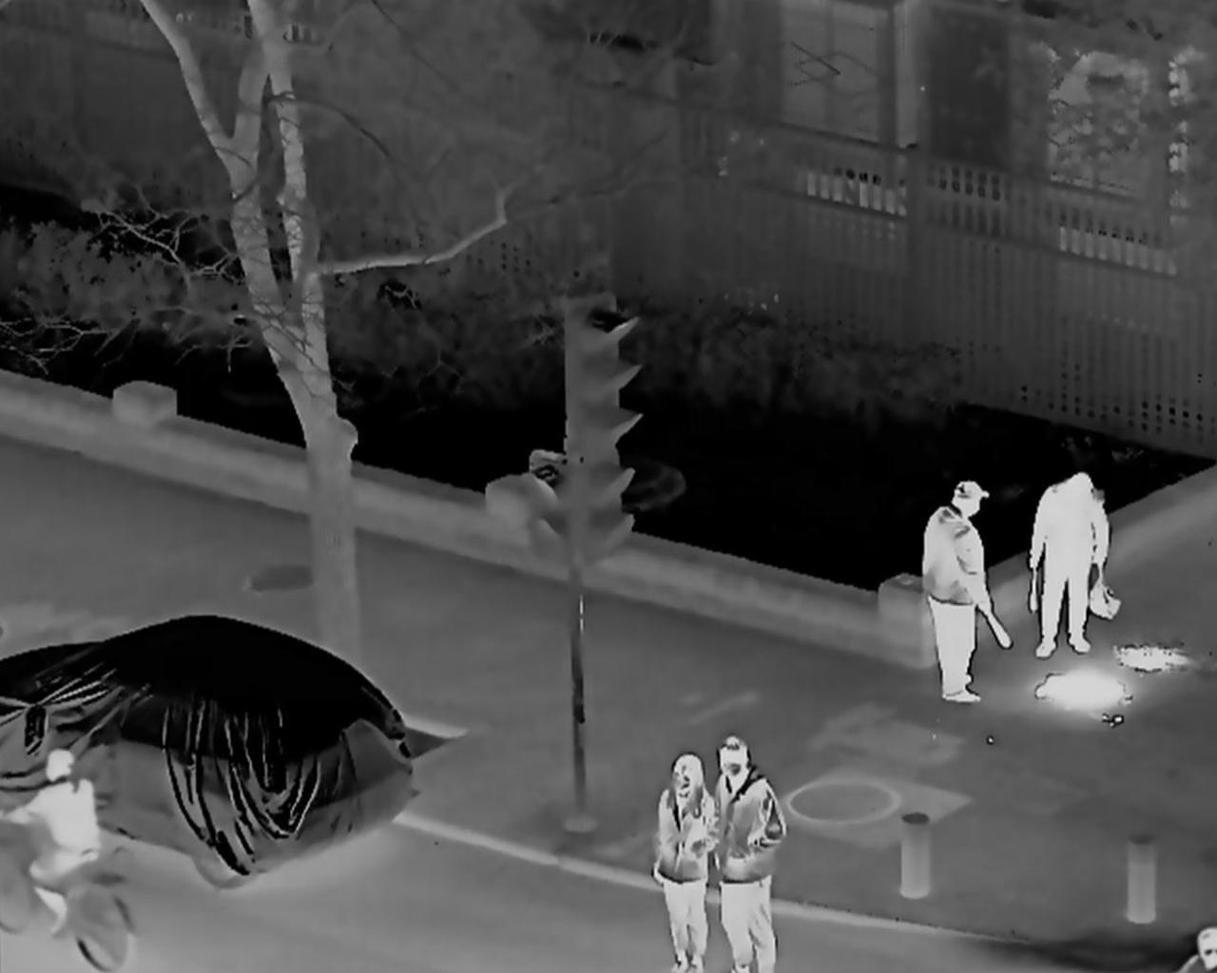person: (10, 740, 101, 932), (710, 739, 784, 973), (917, 477, 992, 706), (643, 751, 719, 970), (1031, 471, 1111, 656)
